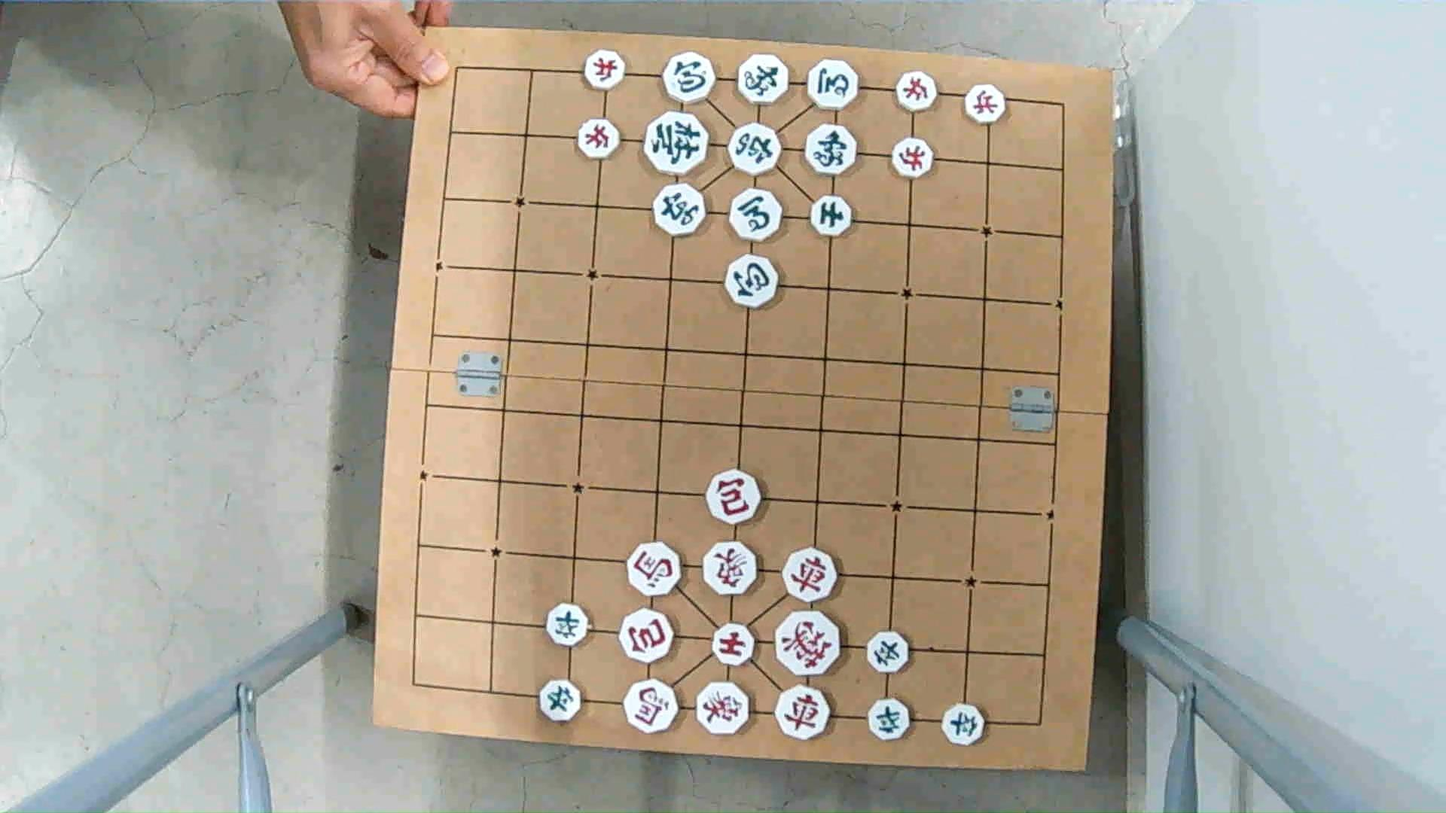cha_green: (729, 125, 786, 174), (651, 183, 705, 234)
cha_red: (776, 684, 834, 742), (784, 552, 843, 601)
jol_green: (864, 630, 911, 674), (942, 703, 987, 748), (538, 681, 587, 720), (546, 605, 592, 646), (866, 700, 912, 739)
jol_red: (889, 138, 937, 184), (965, 83, 1008, 125), (894, 71, 938, 111), (575, 120, 620, 159), (581, 51, 625, 87)
ma_green: (804, 62, 859, 111), (731, 188, 782, 240)
ma_red: (623, 545, 680, 595), (624, 683, 681, 732)
po_green: (660, 53, 718, 107), (728, 257, 782, 306)
po_red: (703, 474, 761, 524), (618, 611, 674, 661)
sa_green: (809, 193, 853, 238)
sa_red: (709, 624, 755, 664)
sang_green: (735, 53, 790, 106), (804, 125, 859, 174)
sang_red: (694, 684, 752, 735), (703, 545, 760, 596)
wang_green: (640, 110, 707, 174)
wang_red: (773, 614, 844, 674)
